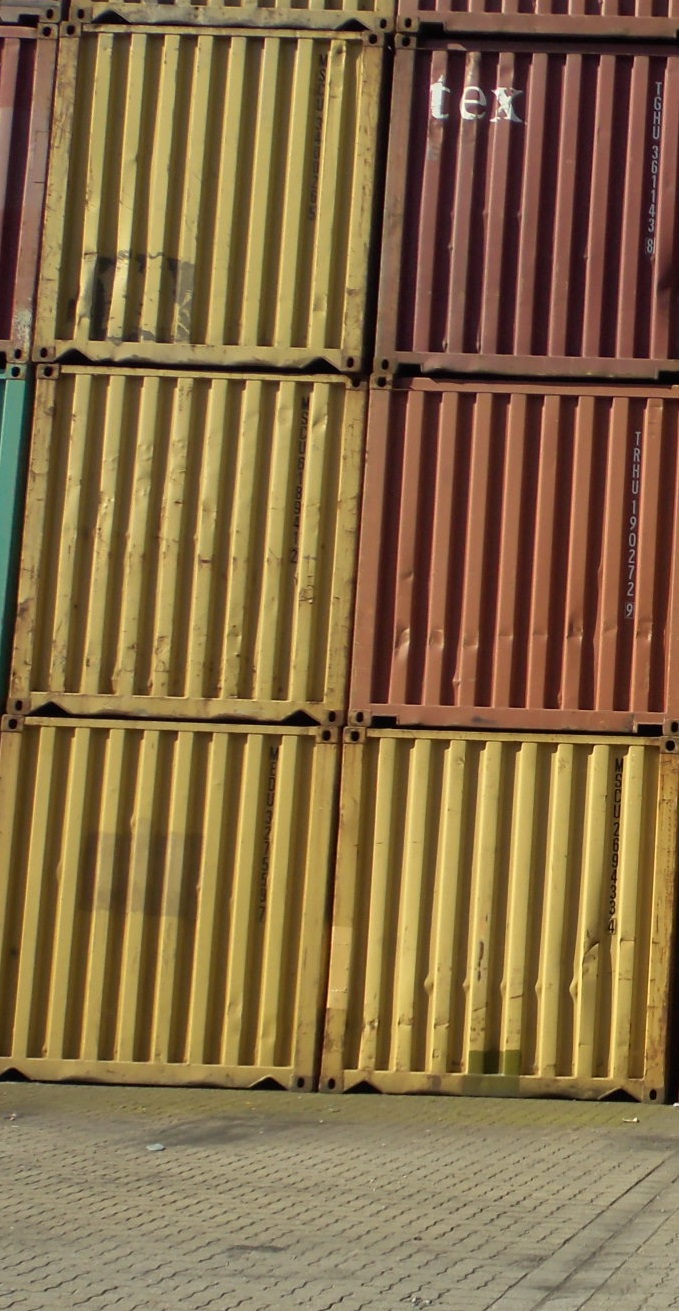container_no_door: (324, 716, 679, 1100), (1, 366, 373, 722), (31, 14, 378, 364), (5, 727, 331, 1088), (358, 376, 679, 719), (386, 29, 679, 381)
